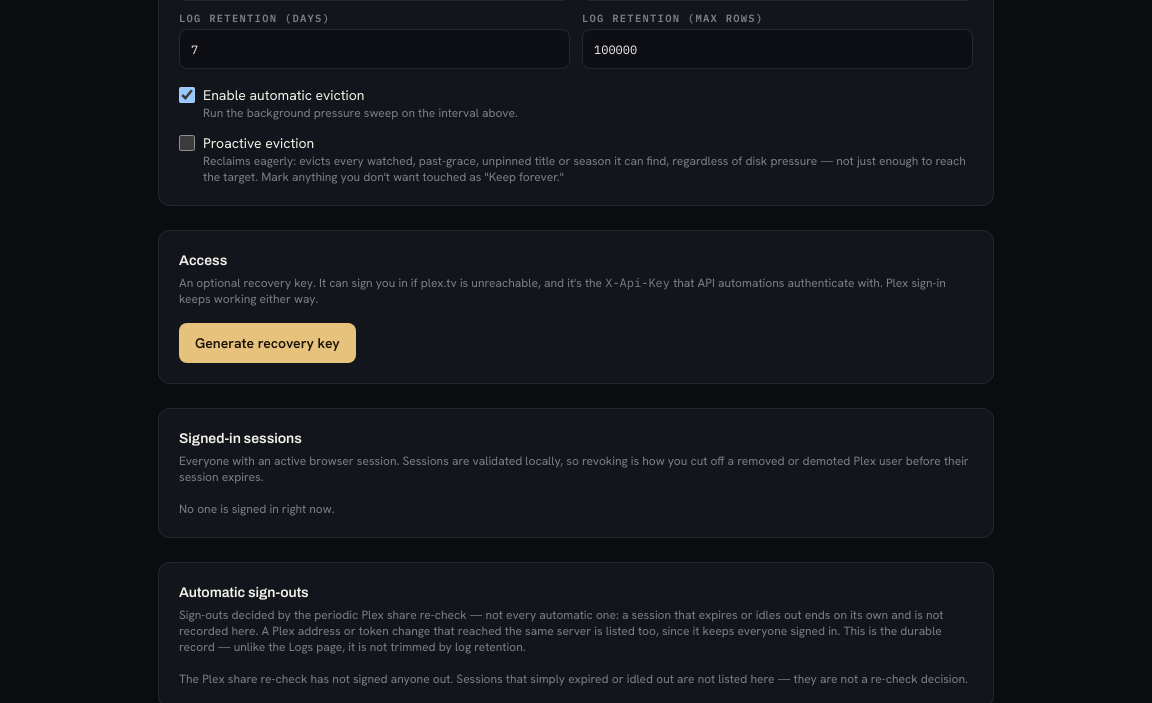
Scenario: Settings — Access recovery key (opt-in, ADR-0016) › generates a key, reveals it exactly once with the storage caption, and flips to Rotate/Revoke
(page scrolled)
Click the button "Generate recovery key" at (267, 343), box [179,323,356,363]
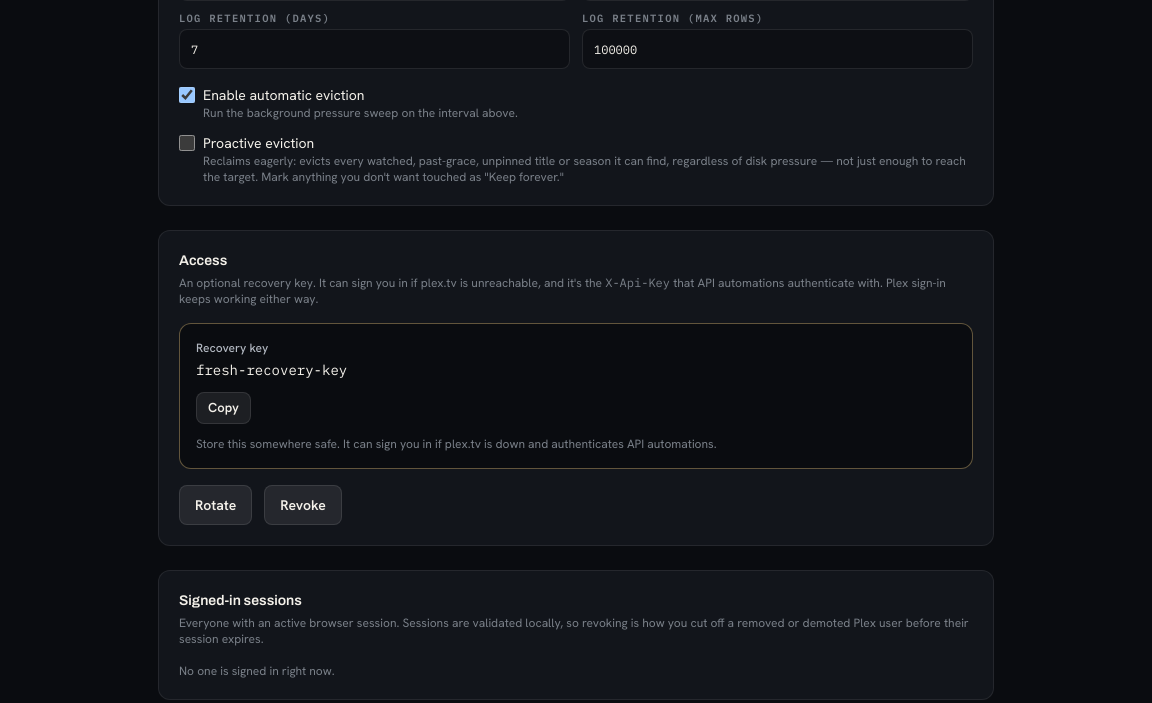
Now the text "fresh-recovery-key" is shown, box [196,361,347,379]
Now the text "Store this somewhere safe. It can sign you in if plex.tv is down and authenticates API automations." is shown, box [196,436,717,452]
Now the button "Rotate" is shown, box [179,485,252,525]
